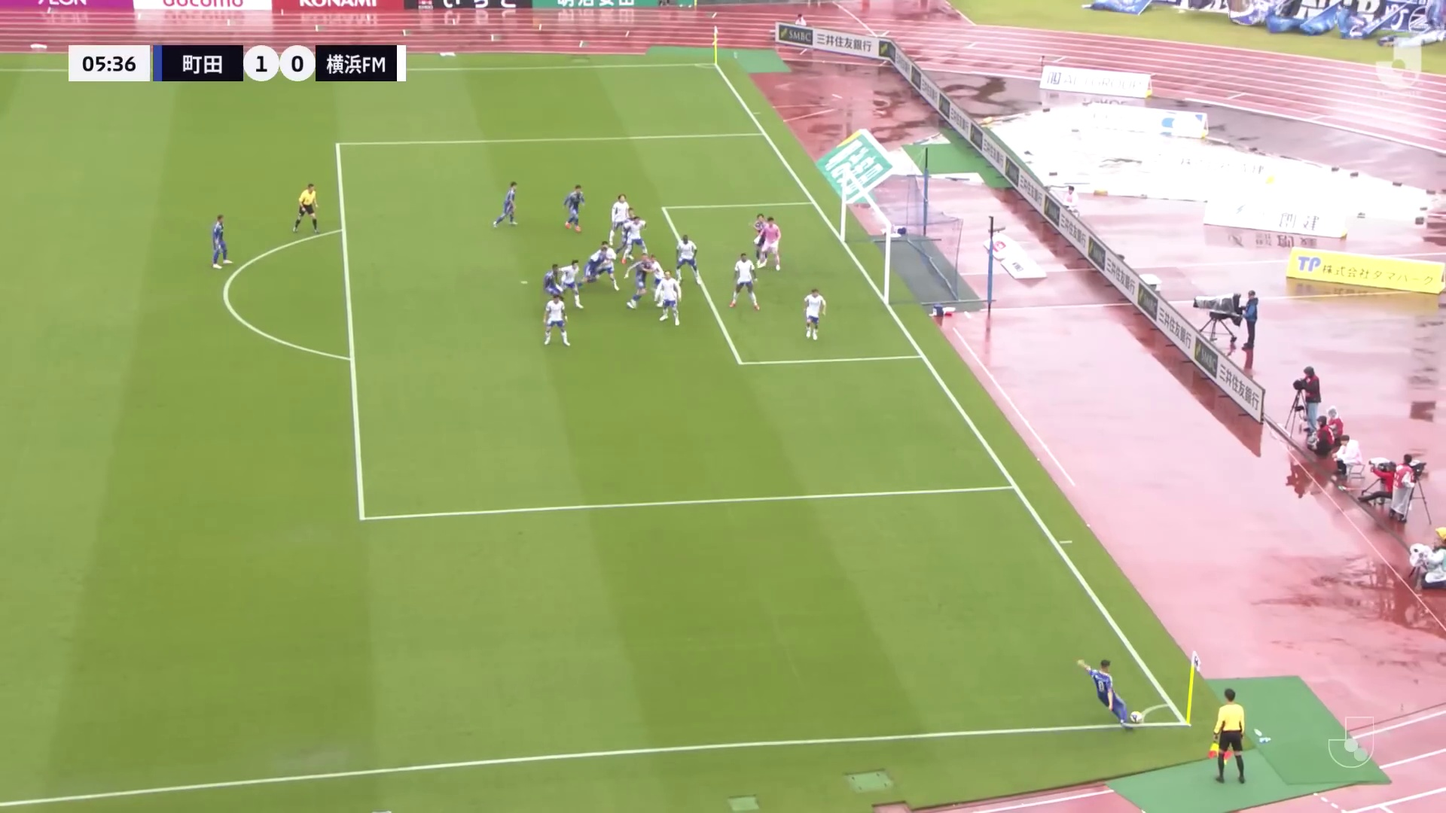ball: (1128, 710, 1145, 725)
player: (1074, 657, 1143, 733), (623, 251, 659, 310), (639, 252, 675, 309), (728, 251, 762, 311), (541, 292, 572, 349), (654, 269, 684, 327), (672, 234, 703, 290), (555, 259, 586, 310), (800, 287, 828, 341), (207, 214, 234, 270), (492, 181, 522, 229), (759, 216, 784, 272), (560, 185, 588, 234), (607, 193, 631, 246), (621, 213, 648, 260), (749, 213, 770, 268), (541, 262, 565, 308), (599, 241, 620, 290), (583, 247, 607, 287), (617, 206, 636, 248)
referee: (1206, 687, 1251, 786), (290, 182, 323, 235)
